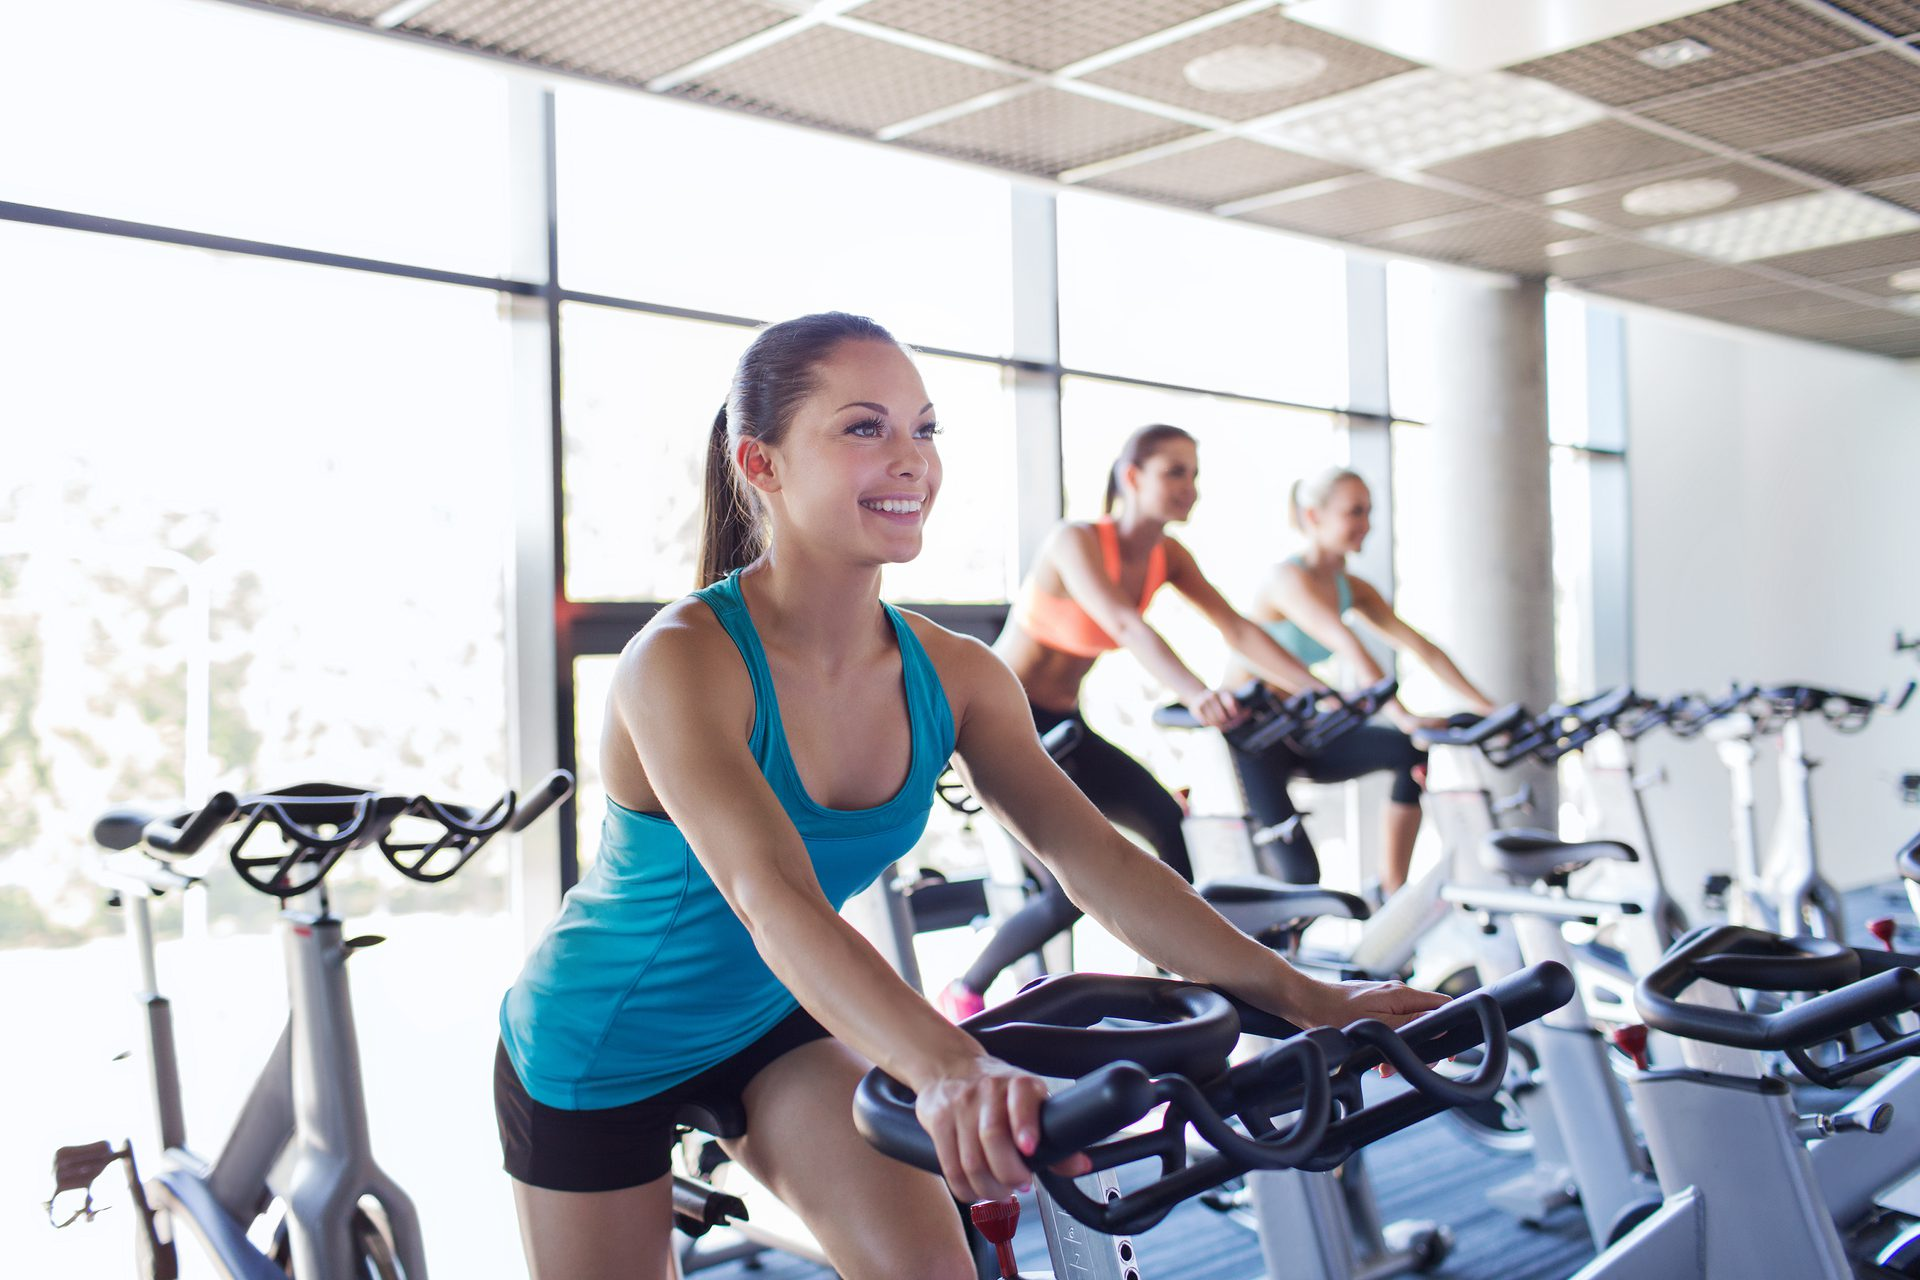gym_bike: (39, 776, 543, 1280)
